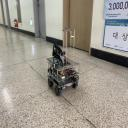cart: (47, 56, 79, 97)
